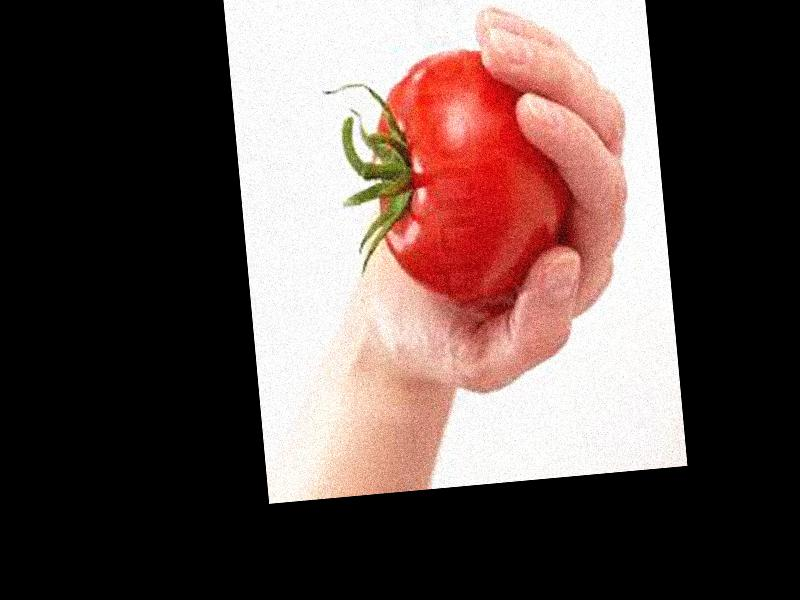Tomato: (362, 41, 576, 303)
